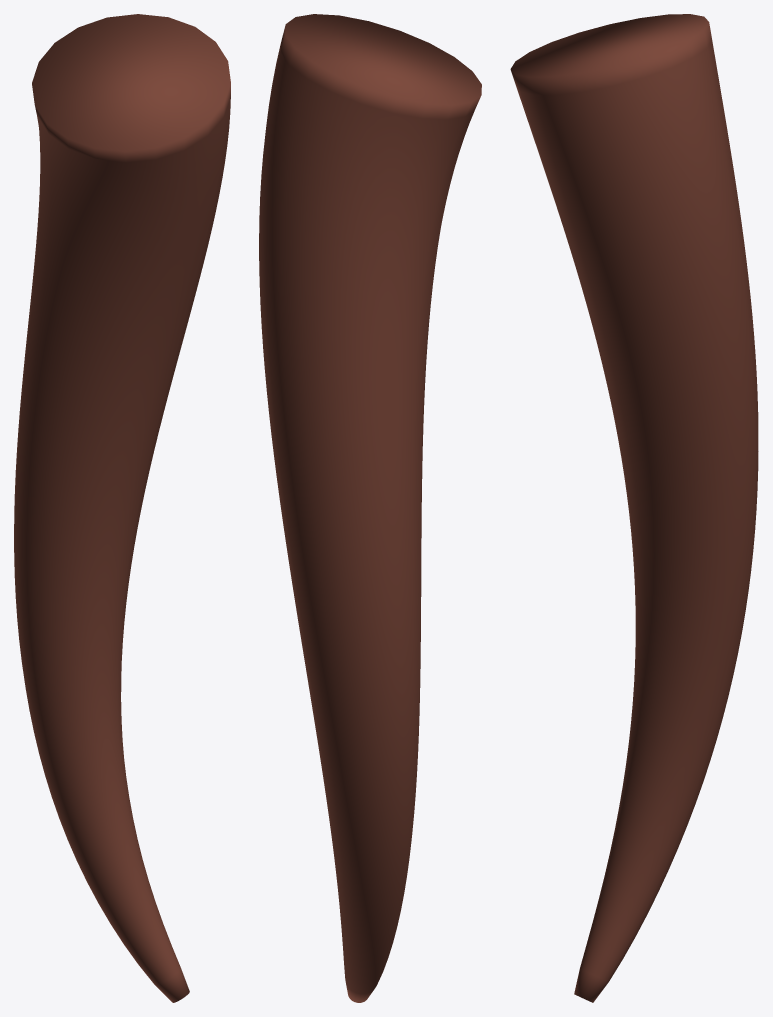
Rendered from tail_whip_01.glb.
3 views of the same model, side by side, from view 1: azimuth 30°, elevation 25°; view 2: azimuth 150°, elevation 25°; view 3: azimuth 270°, elevation 25° (orthographic). The views are drawn at different scales.
Parts seen in each view (by area): view 1: tail_whip_01; view 2: tail_whip_01; view 3: tail_whip_01.
Boxes of the visible parts, left/top/right/bottom form: tail_whip_01: left=14, top=14, right=230, bottom=1002; tail_whip_01: left=259, top=14, right=481, bottom=1002; tail_whip_01: left=510, top=14, right=758, bottom=1002.
Bounding box in the file's own units: 0.2388 × 1.22 × 0.2838.
